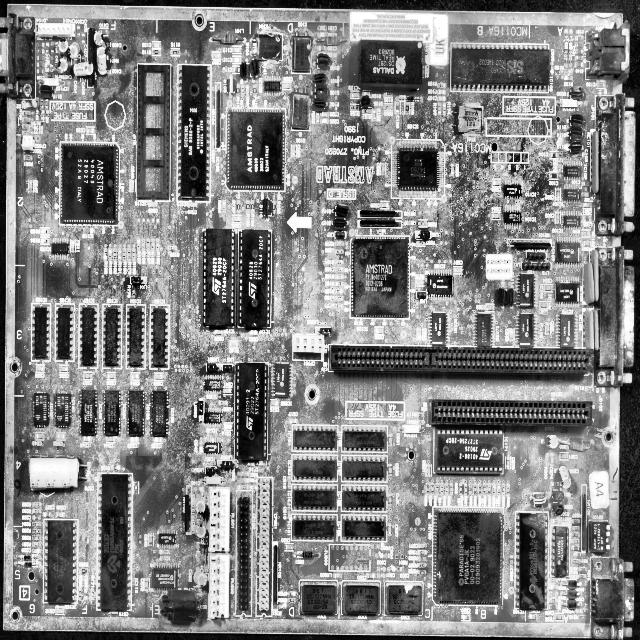PCB: (1, 4, 639, 638)
